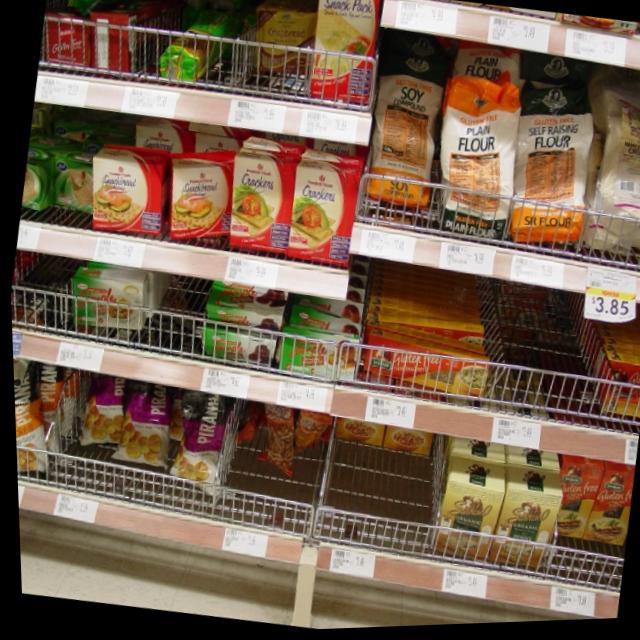q22: (81, 138, 172, 252), (165, 148, 238, 243)
